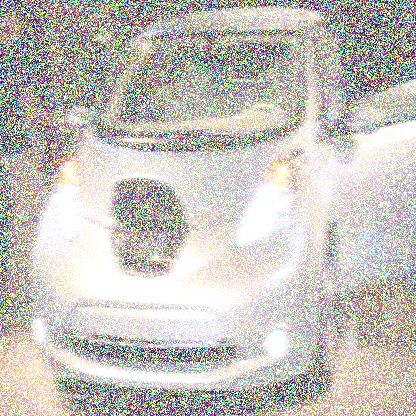Vehicle: (28, 4, 415, 396)
